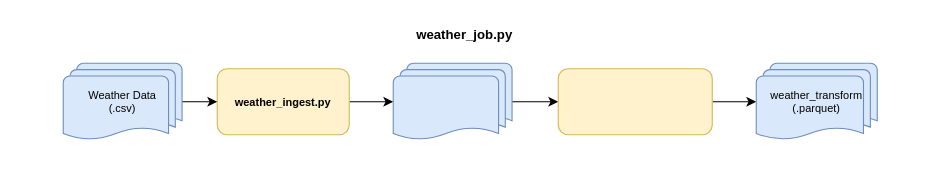
Some shapes in this 928 by 191 pixel diagram are drawn without their labels. Each missing label, with the box of its shape:
Weather Data (.parquet): (392, 62, 512, 140)
weather_transform.py: (557, 68, 712, 135)
